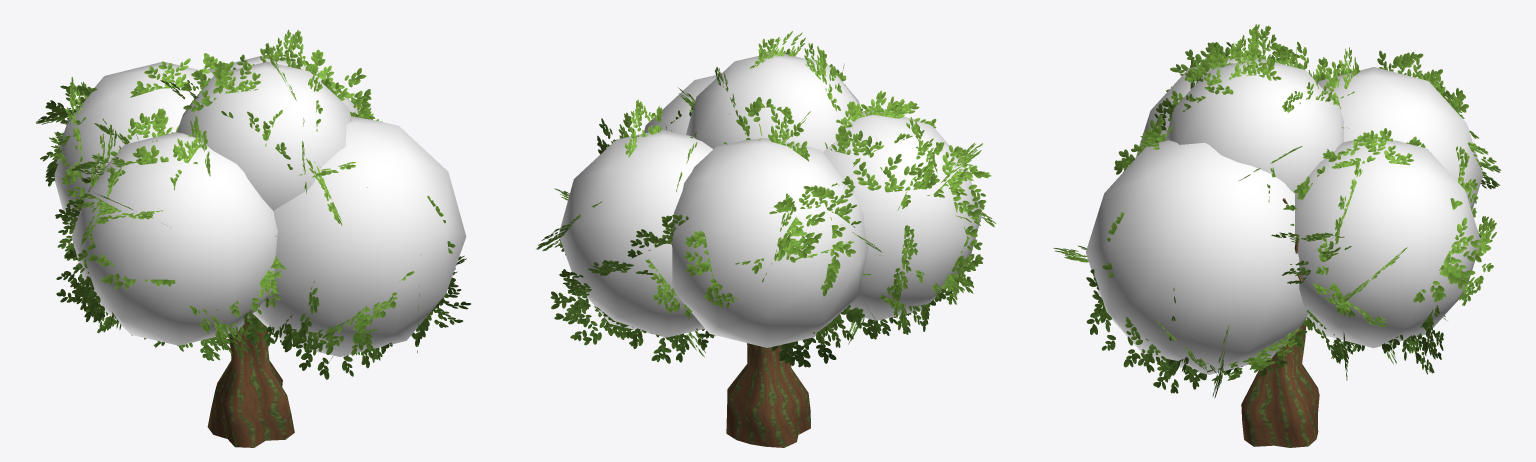
The model's file is grown_oak1.gltf.
3 renders of one model, left to right at view 1: azimuth 30°, elevation 25°; view 2: azimuth 150°, elevation 25°; view 3: azimuth 270°, elevation 25°, orthographic.
Parts seen in each view (by area): view 1: grown_oak1_shadow_LOD0, grown_oak1_leaves_LOD0, grown_oak1_trunk_LOD0; view 2: grown_oak1_shadow_LOD0, grown_oak1_leaves_LOD0, grown_oak1_trunk_LOD0; view 3: grown_oak1_shadow_LOD0, grown_oak1_leaves_LOD0, grown_oak1_trunk_LOD0.
Boxes of the visible parts, x1,y1,x2,y2 form: grown_oak1_shadow_LOD0: (54, 55, 466, 356); grown_oak1_leaves_LOD0: (36, 29, 470, 379); grown_oak1_trunk_LOD0: (207, 318, 294, 447); grown_oak1_shadow_LOD0: (559, 52, 982, 347); grown_oak1_leaves_LOD0: (536, 31, 996, 367); grown_oak1_trunk_LOD0: (671, 130, 810, 447); grown_oak1_shadow_LOD0: (1086, 56, 1482, 374); grown_oak1_leaves_LOD0: (1053, 24, 1501, 398); grown_oak1_trunk_LOD0: (1241, 198, 1319, 447).
Size of what is drawn, in the model's own units: 12.71 by 12.01 by 13.1.
Materials: 3 (2 with a texture image).
